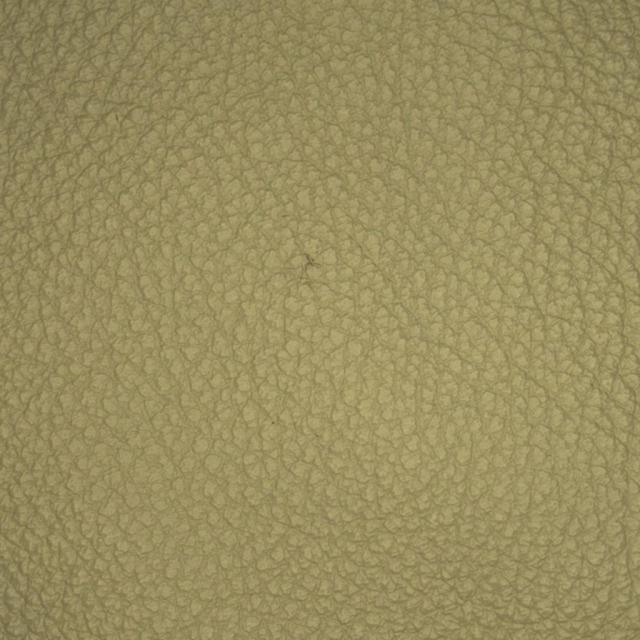Hole: (200, 182, 429, 338)
